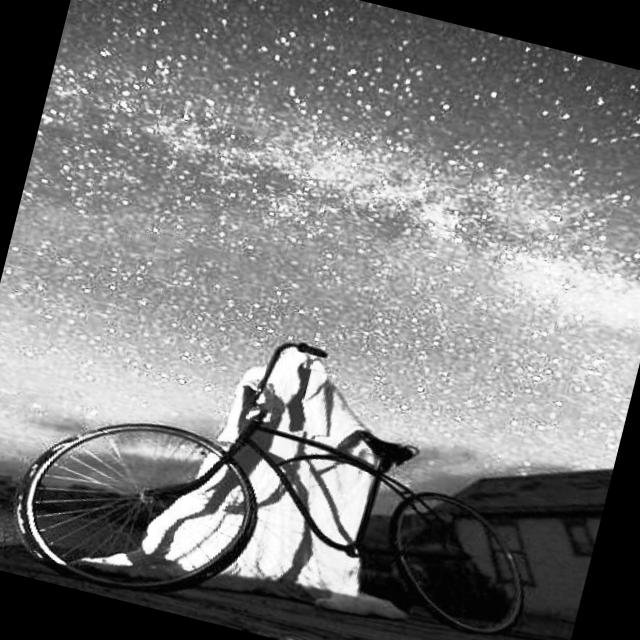Bicycle: (0, 294, 569, 640)
